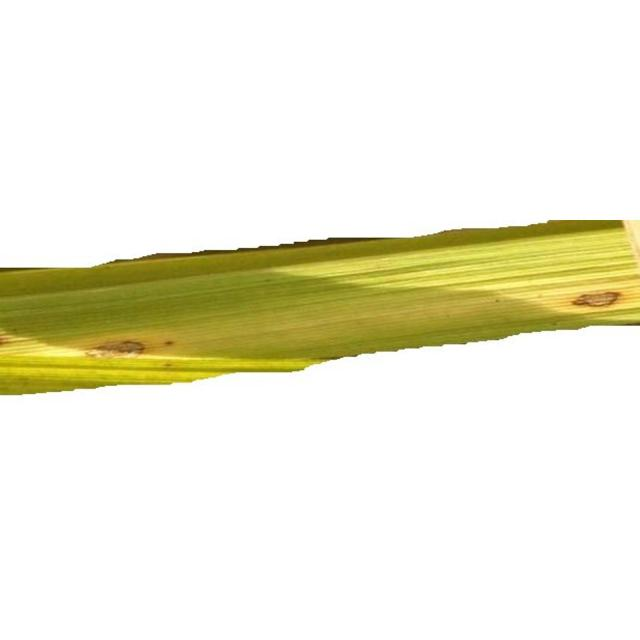Brown spot: (0, 210, 640, 412)
